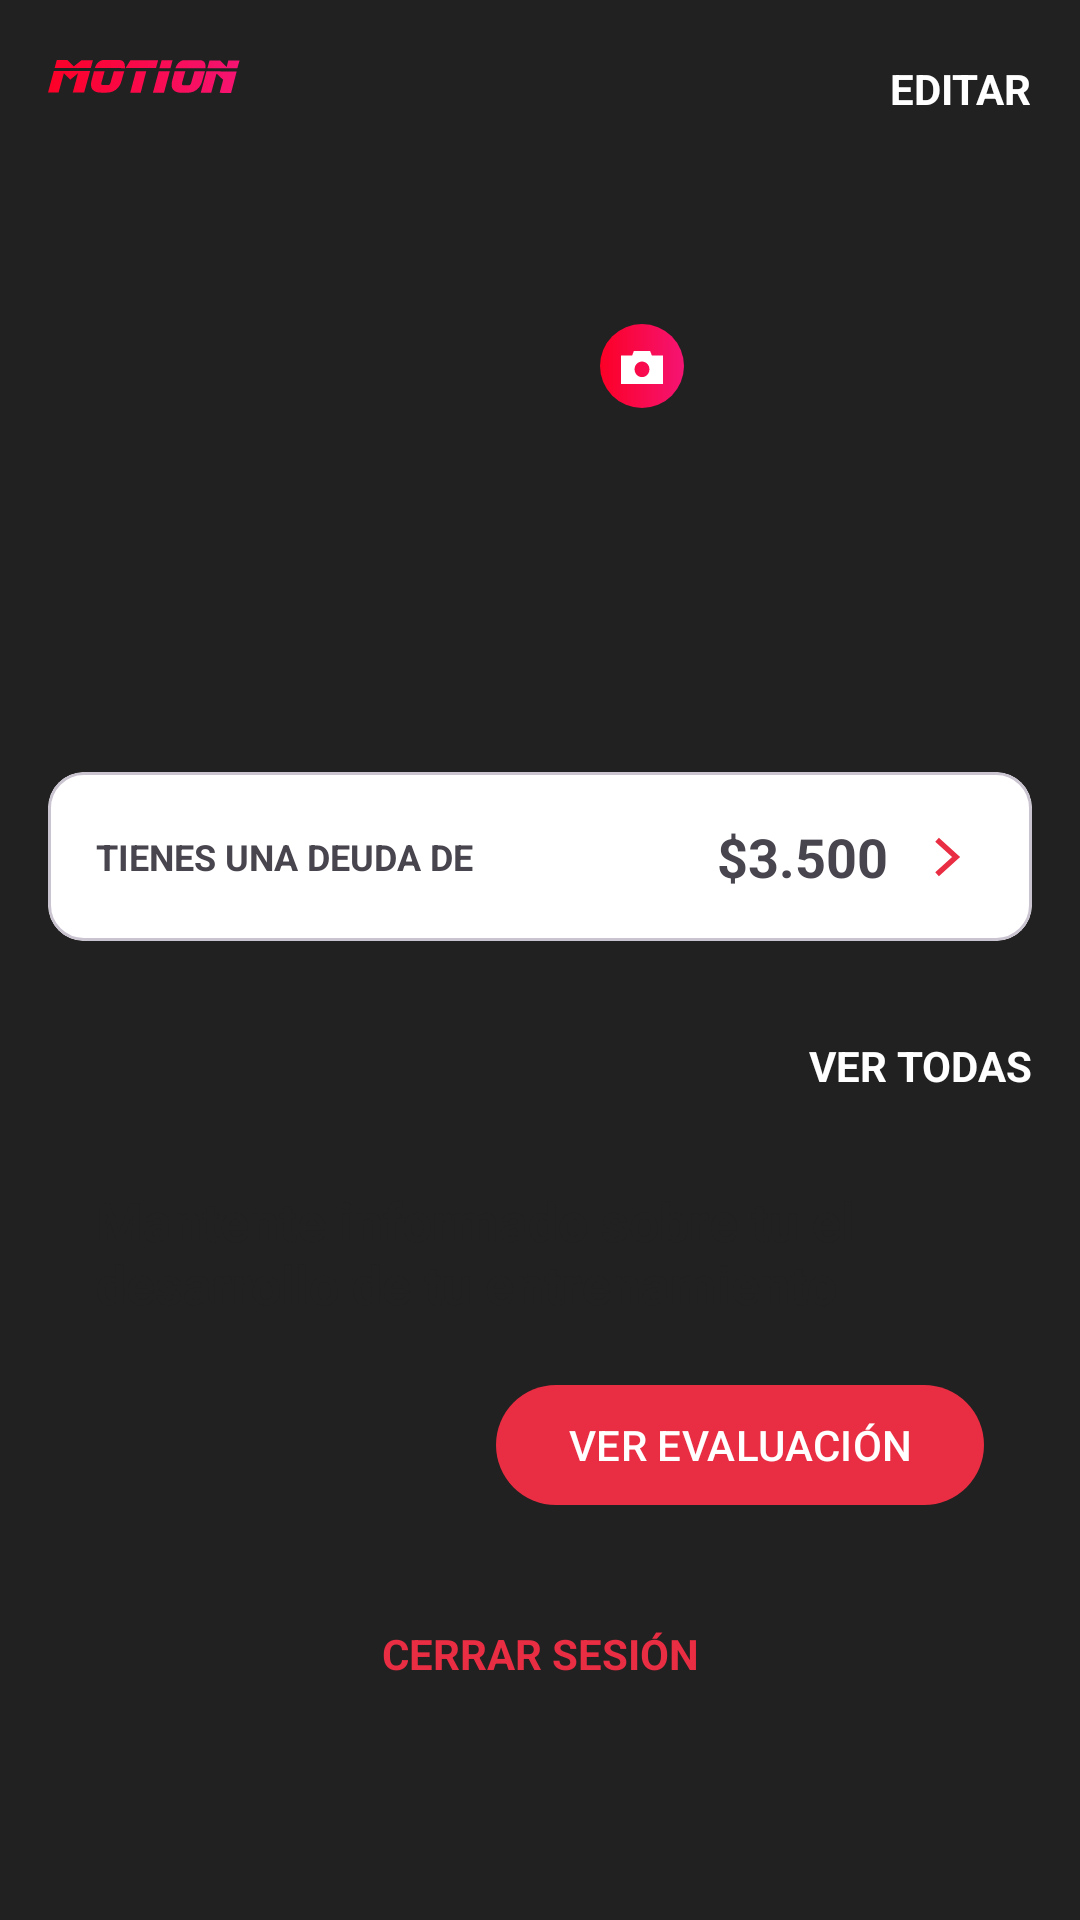

Point at icon controls on the screen. Image size 1080x1920, points as (x,y).
arrow: (947,857)
camara: (642,366)
